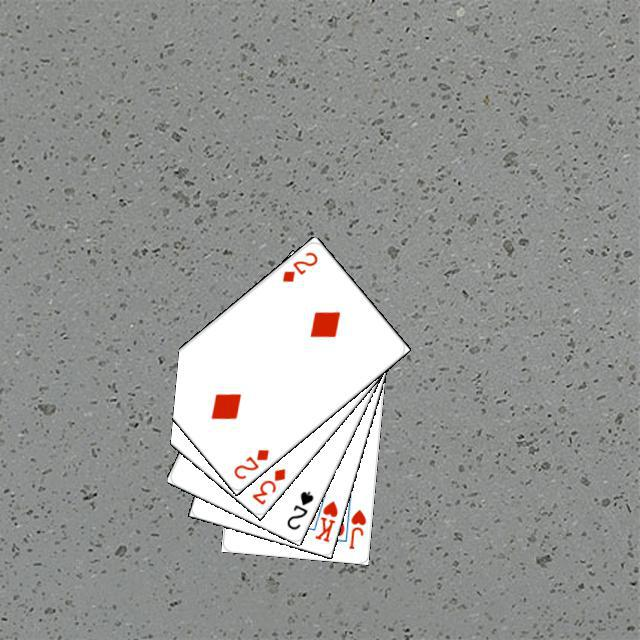2d: (229, 444, 271, 481), (277, 247, 319, 284)
2s: (282, 486, 315, 531)
3d: (247, 463, 287, 506)
Jh: (344, 504, 368, 551)
Kh: (306, 489, 339, 544)
